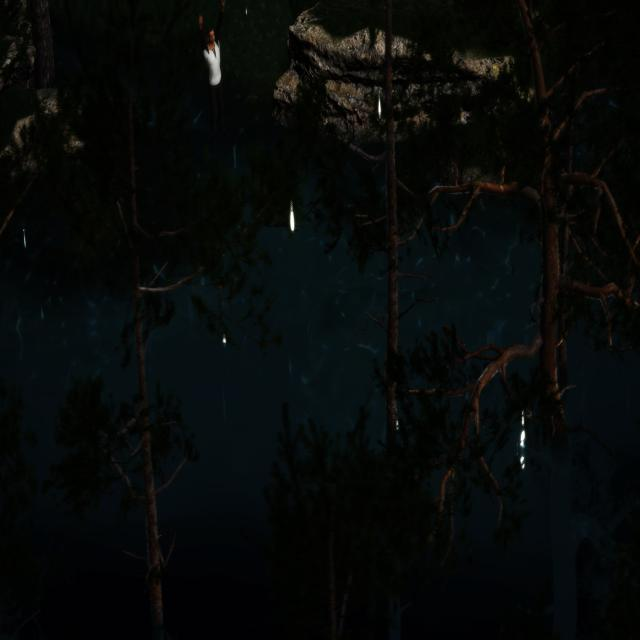Human: (196, 6, 231, 161)
